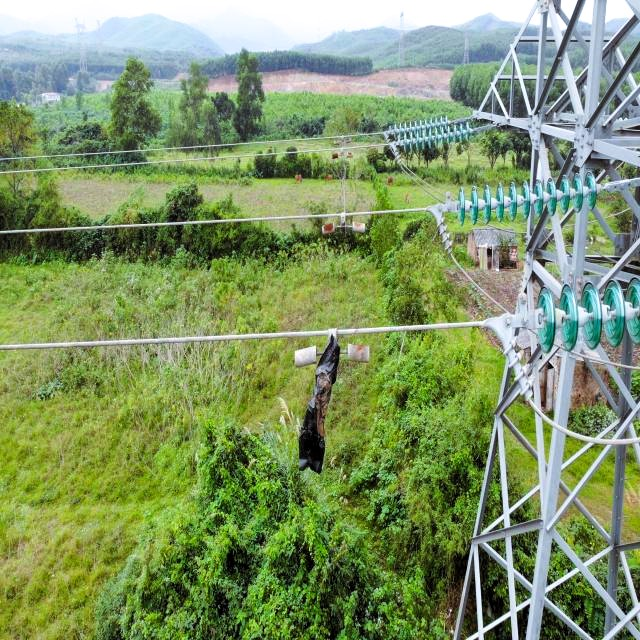wire foreign body: (281, 314, 354, 475)
